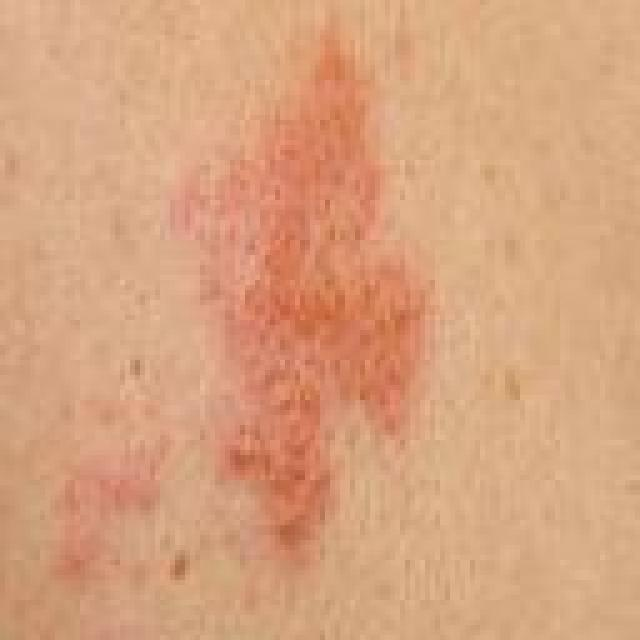Shingles: (196, 44, 413, 540), (64, 415, 165, 571)
